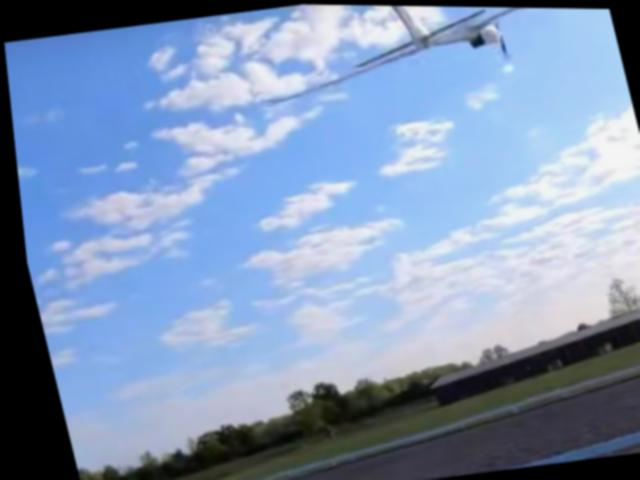iha: (245, 3, 624, 107)
